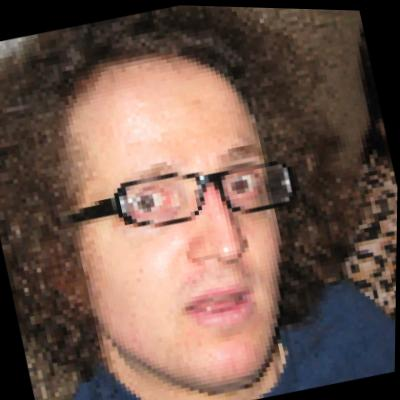surprise: (22, 24, 318, 400)
